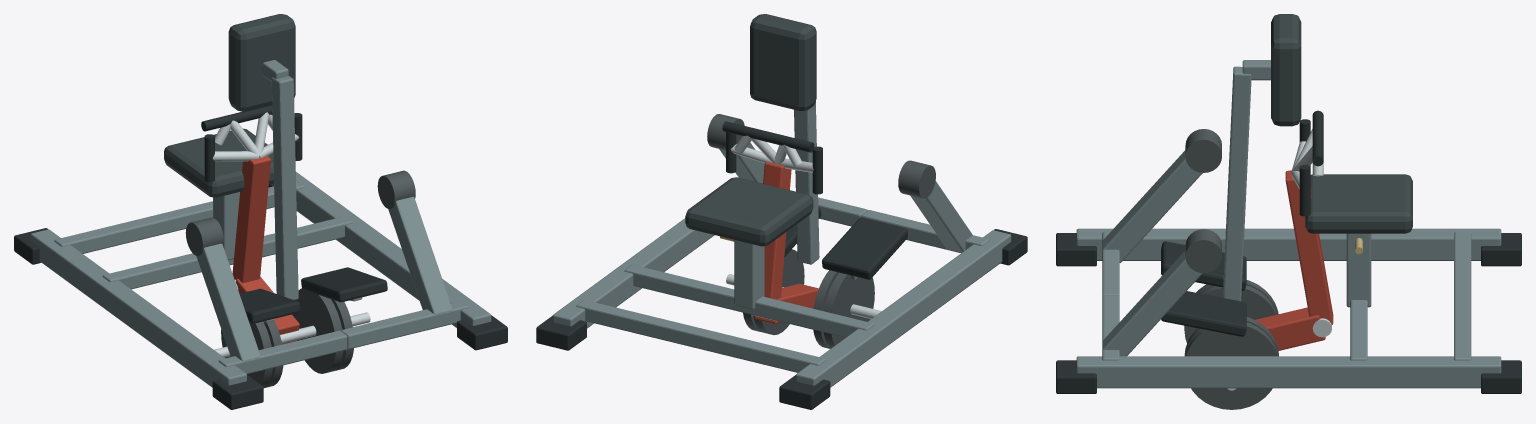
Rendered from row-machine.v3.glb.
3 views of the same model, side by side, from view 1: azimuth 30°, elevation 25°; view 2: azimuth 150°, elevation 25°; view 3: azimuth 270°, elevation 25° (orthographic). The views are drawn at different scales.
Visible parts, largest first — view 1: Base crossmember, Floor shoe, Chest pad, Independent row arm, Adjustable seat, Load plate, Bearing housing, Handle bracket, Load plate.002, Neutral grip, Handle bracket.001, Neutral grip.001; view 2: Base crossmember, Floor shoe, Adjustable seat, Chest pad, Independent row arm, Load plate.002, Bearing housing, Load plate, Neutral grip, Handle bracket.001, Neutral grip.001, Handle bracket; view 3: Base crossmember, Floor shoe, Adjustable seat, Independent row arm, Load plate, Chest pad, Bearing housing, Load plate.002, Neutral grip.001, Handle bracket, Neutral grip.
Boxes of the visible parts, x1,y1,x2,y2 form: Base crossmember: (30, 60, 491, 387); Floor shoe: (14, 183, 507, 409); Chest pad: (228, 14, 295, 111); Independent row arm: (232, 156, 299, 344); Adjustable seat: (164, 128, 273, 197); Load plate: (292, 288, 353, 373); Bearing housing: (185, 170, 415, 255); Handle bracket: (213, 112, 370, 341); Load plate.002: (221, 320, 283, 387); Neutral grip: (201, 108, 267, 182); Handle bracket.001: (214, 120, 299, 357); Neutral grip.001: (231, 105, 302, 160); Base crossmember: (552, 101, 1011, 387); Floor shoe: (536, 207, 1027, 409); Adjustable seat: (685, 177, 813, 246); Chest pad: (750, 14, 816, 111); Independent row arm: (754, 162, 818, 323); Load plate.002: (813, 270, 874, 348); Bearing housing: (707, 114, 935, 198); Load plate: (743, 249, 804, 335); Neutral grip: (748, 129, 822, 194); Handle bracket.001: (730, 144, 881, 320); Neutral grip.001: (722, 121, 785, 173); Handle bracket: (726, 135, 813, 287); Base crossmember: (1076, 60, 1501, 388); Floor shoe: (1056, 233, 1521, 393); Adjustable seat: (1305, 174, 1412, 233); Independent row arm: (1255, 170, 1333, 350); Load plate: (1184, 317, 1278, 409); Chest pad: (1271, 14, 1301, 126); Bearing housing: (1185, 129, 1221, 273); Load plate.002: (1184, 280, 1278, 343); Neutral grip.001: (1299, 124, 1323, 216); Handle bracket: (1227, 141, 1331, 390); Neutral grip: (1299, 110, 1323, 166).
Size of the model in its own units: 1.59 by 1.84 by 2.16.
